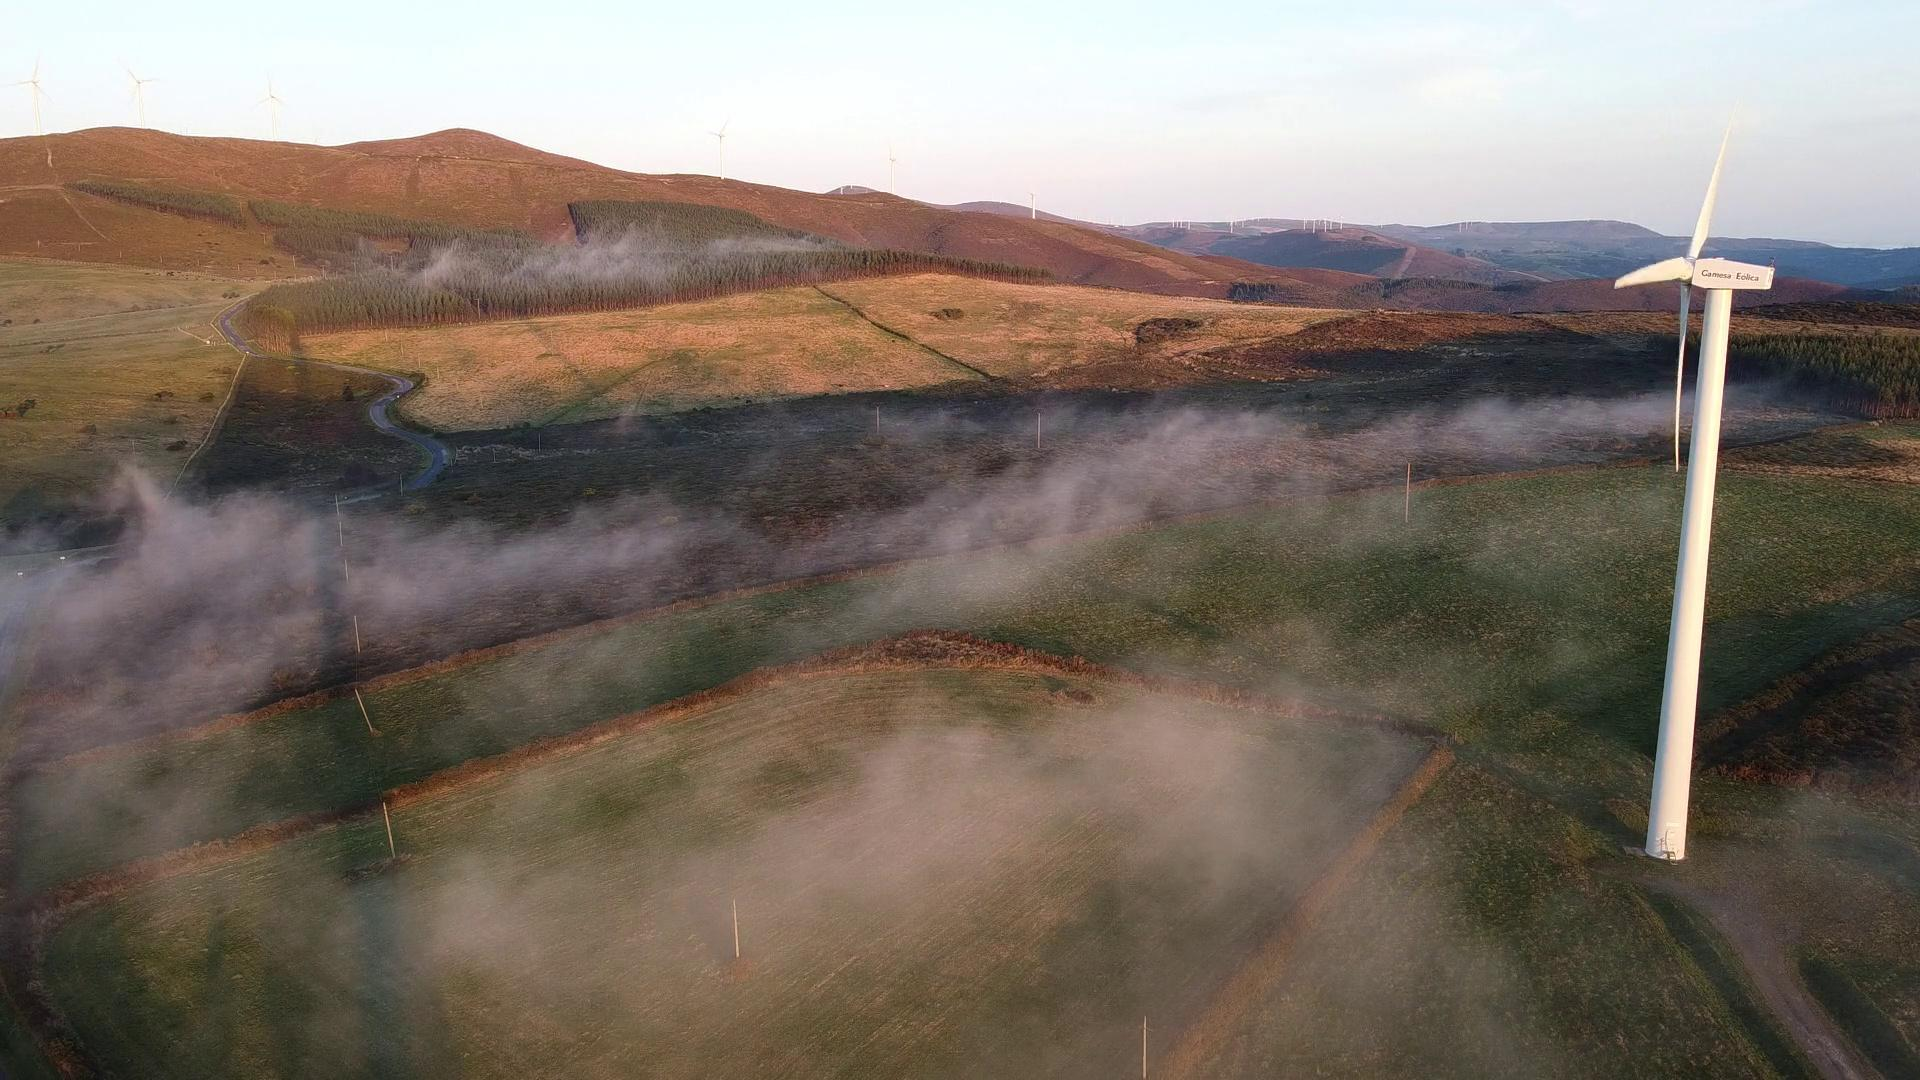turbine: (1605, 119, 1779, 866), (3, 55, 58, 131), (251, 59, 295, 142), (113, 63, 167, 129), (700, 112, 742, 185), (876, 137, 909, 198), (1021, 175, 1046, 219)
